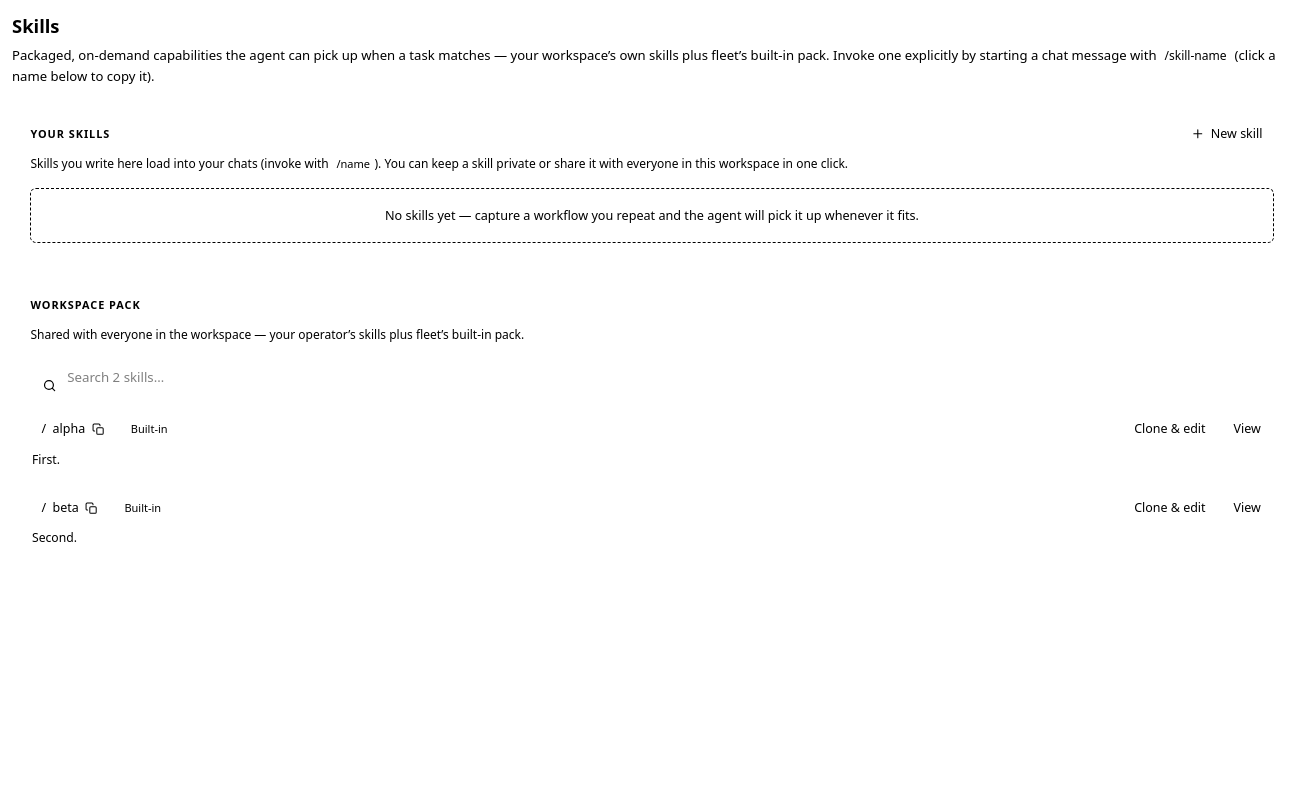
SkillsPage workspace pack › never shows a superseded skill's body under the newly opened header
Click the 1st button "View" at (1247, 430), box [1222, 416, 1272, 444]
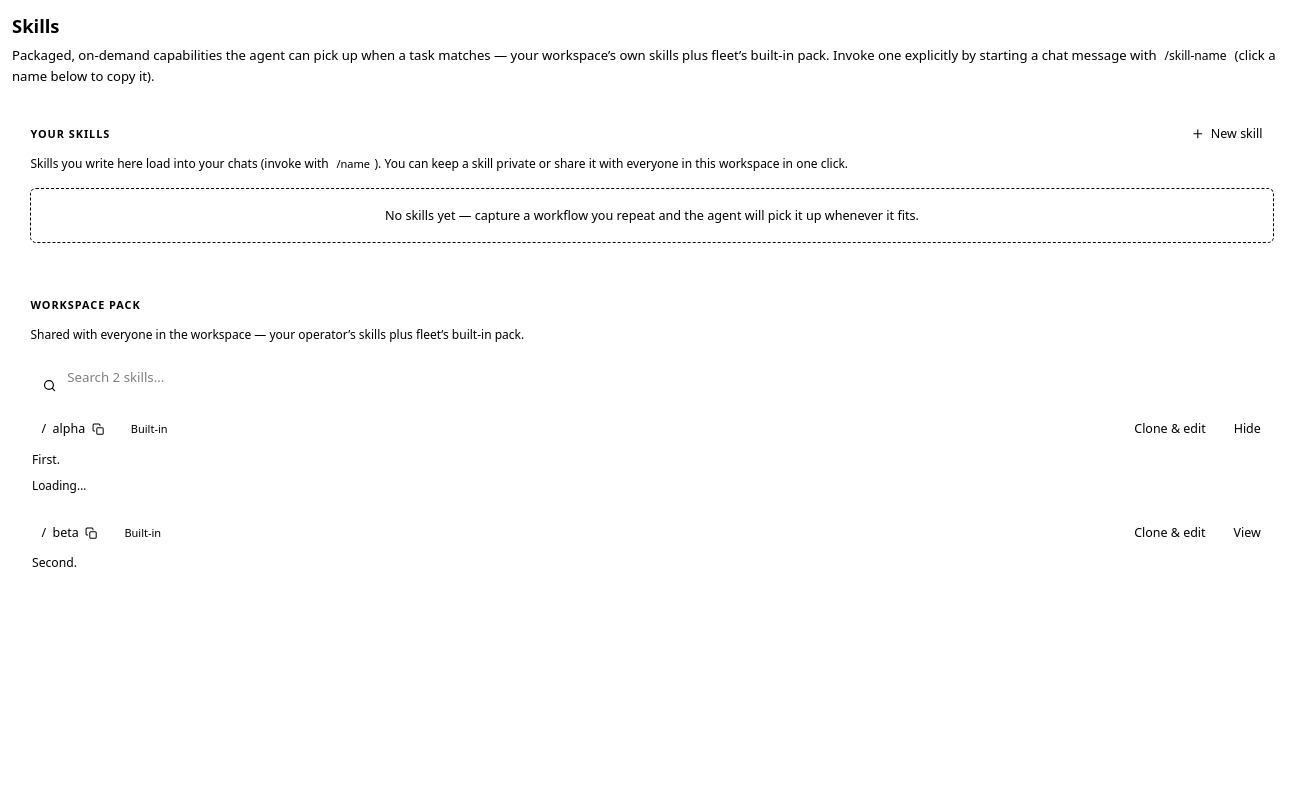
Click the button "View" at (1247, 533), box [1222, 519, 1272, 547]
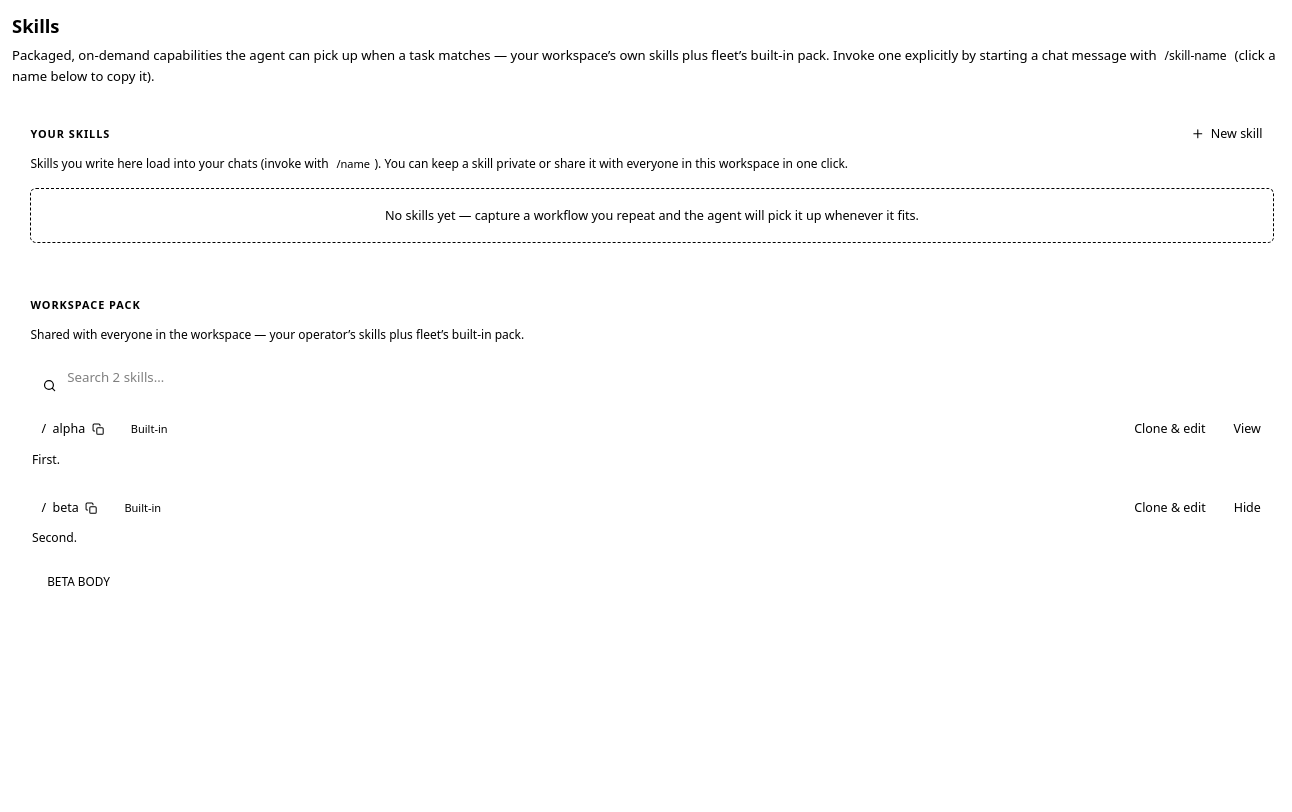
expect the text "BETA BODY" is shown: met, box [47, 572, 110, 588]
